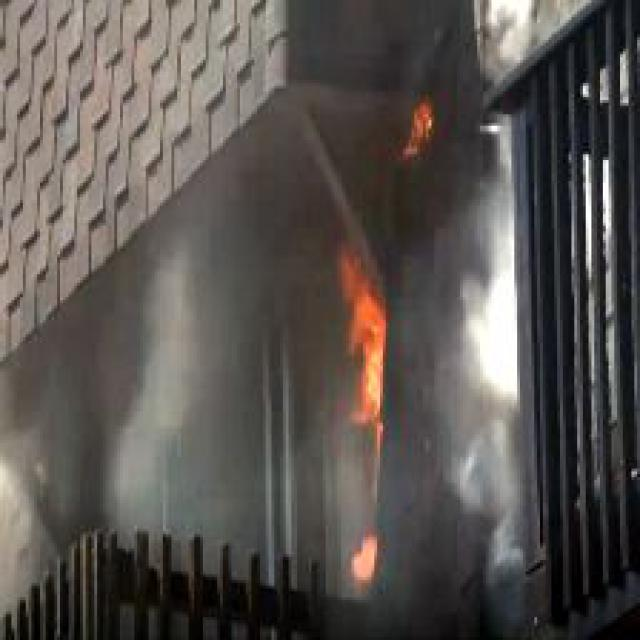fire: (328, 228, 406, 583)
